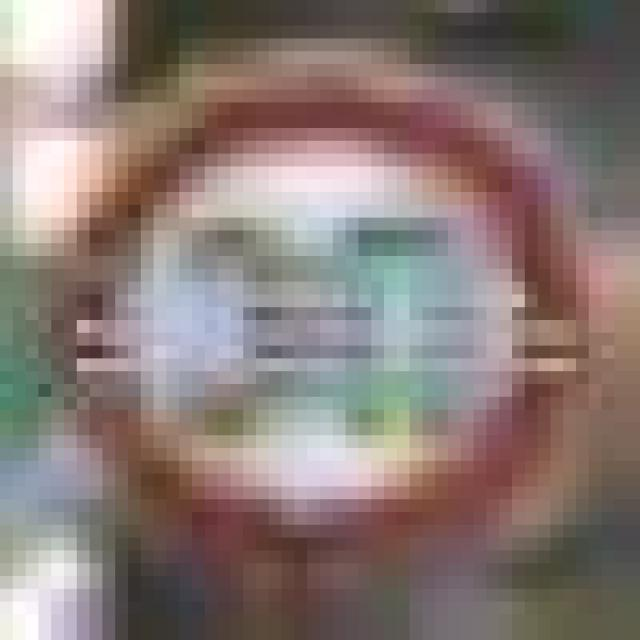SPEED_LIMIT_30: (38, 38, 589, 589)
